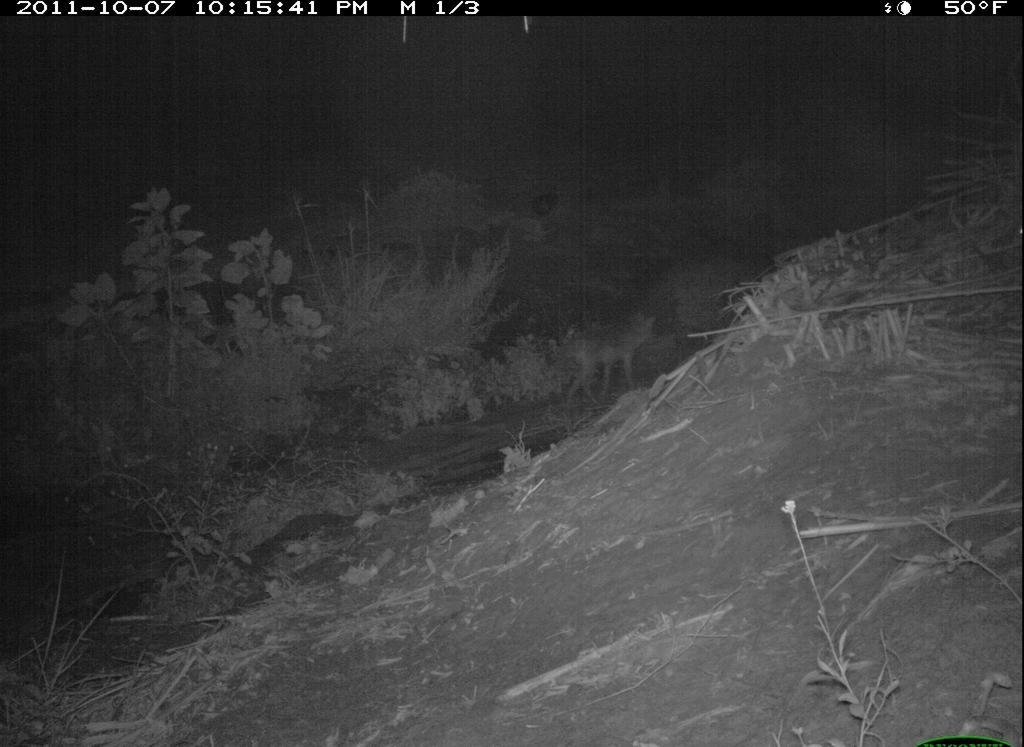coyote: (551, 306, 667, 408)
